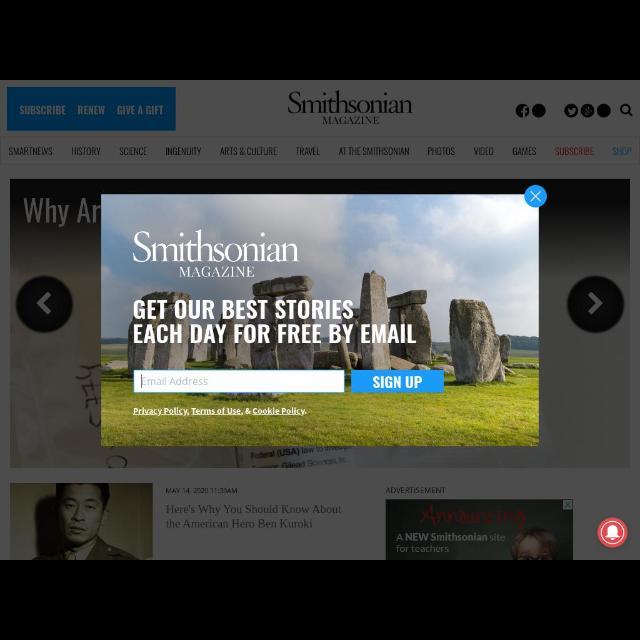backgroundimage: (101, 195, 538, 447)
button: (16, 276, 74, 332), (568, 276, 624, 332), (598, 518, 628, 548), (524, 185, 548, 207)
icon: (36, 292, 54, 316), (586, 292, 604, 314), (605, 524, 621, 540), (618, 103, 634, 117), (530, 190, 542, 202)
iframe: (385, 500, 573, 560)
image: (11, 484, 153, 558), (133, 230, 300, 278), (287, 91, 413, 125), (596, 104, 612, 118), (516, 104, 530, 118), (532, 104, 546, 118), (564, 104, 578, 118), (580, 104, 594, 118)
input: (133, 370, 344, 392)
multitab: (1, 138, 639, 164), (7, 87, 175, 131)
text: (133, 300, 417, 344), (166, 504, 340, 530), (134, 408, 306, 416), (373, 376, 423, 389), (142, 378, 208, 387), (165, 487, 238, 495), (220, 146, 276, 156), (339, 147, 409, 155), (20, 104, 66, 116), (117, 104, 163, 116), (386, 486, 446, 494), (9, 146, 53, 156), (556, 147, 594, 155), (166, 147, 202, 155), (78, 105, 104, 115), (296, 146, 320, 156), (72, 147, 100, 155), (119, 148, 147, 156), (428, 148, 454, 156), (512, 148, 536, 156), (474, 148, 494, 156), (612, 147, 632, 155)
textbutton: (351, 370, 443, 392)
